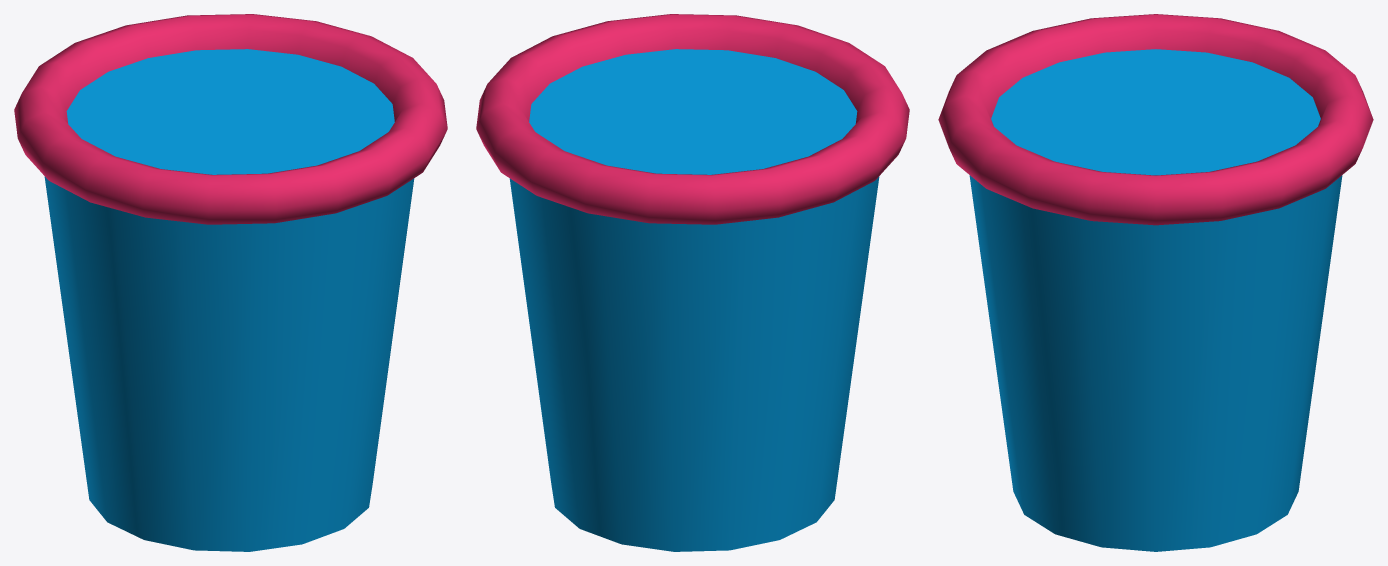
Rendered from coffee.fbx.
The picture shows the model from 3 angles, left to right: view 1: azimuth 30°, elevation 25°; view 2: azimuth 150°, elevation 25°; view 3: azimuth 270°, elevation 25°; orthographic projection.
Visible parts, largest first — view 1: coffee; view 2: coffee; view 3: coffee.
Boxes of the visible parts, bbox=[...] form: coffee: bbox=[14, 14, 447, 551]; coffee: bbox=[476, 14, 909, 551]; coffee: bbox=[938, 14, 1373, 551].
Bounding box in the file's own units: 24.6 × 24.7 × 24.6.
